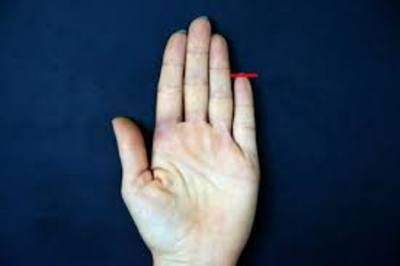mindinho: (229, 68, 273, 164)
